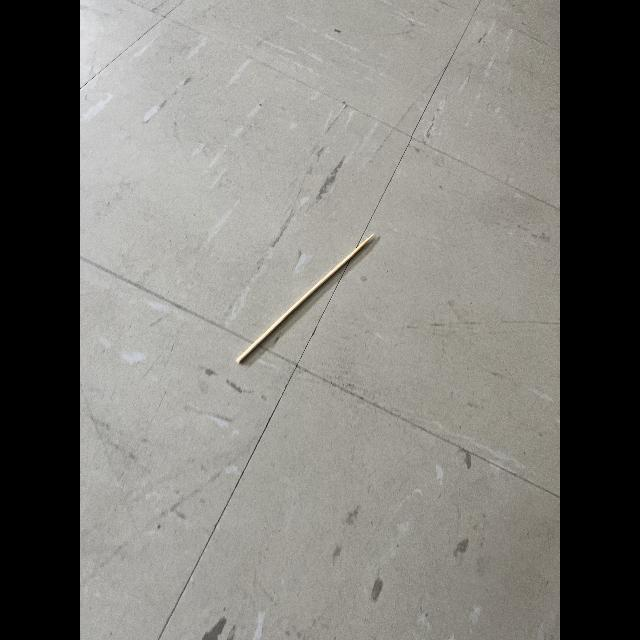stick: (232, 224, 394, 376)
